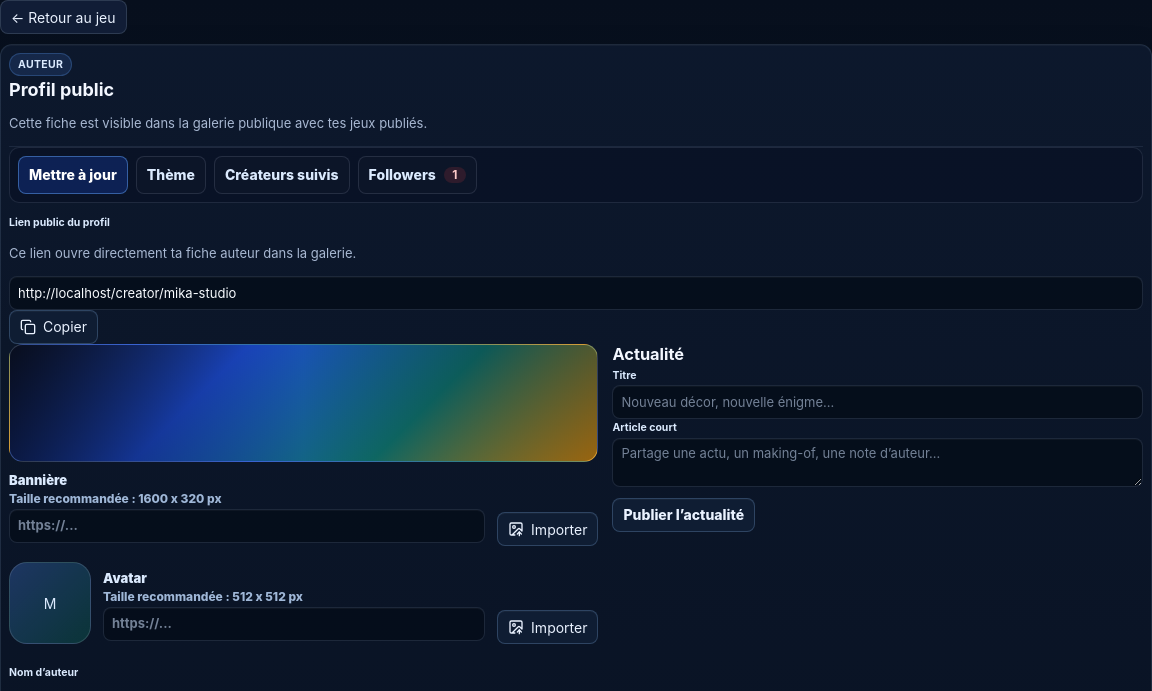
Test: author profile media › affiche les followers dans mon profil auteur
What coordinates should you click on to do the following:
click the tab "Followers 1"
I would click on:
 (417, 175)
Its box is [358,156,477,194].
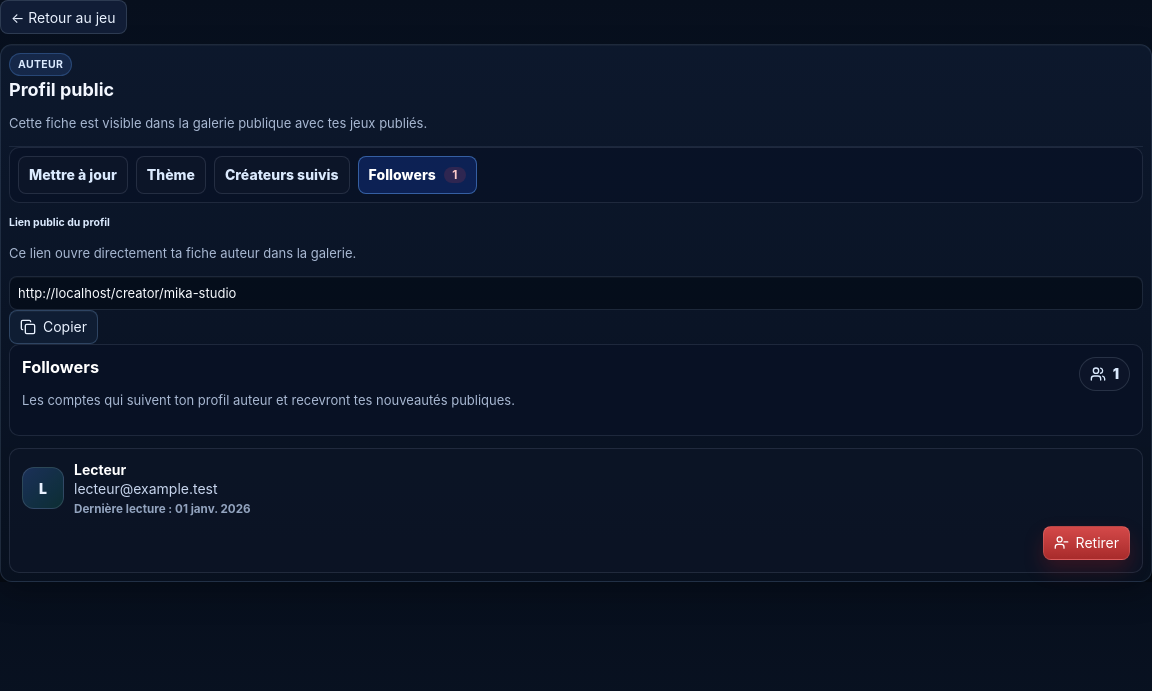
Now the text "Lecteur" is shown, box [74,461,126,478]
Now the text "lecteur@example.test" is shown, box [74,480,218,497]
Now the text "Dernière lecture" is shown, box [74,502,175,516]
